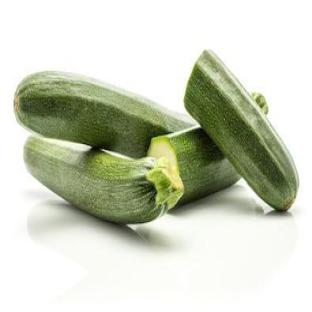Zucchini: (185, 51, 298, 211), (15, 72, 195, 157), (24, 136, 183, 223), (148, 126, 240, 205)
